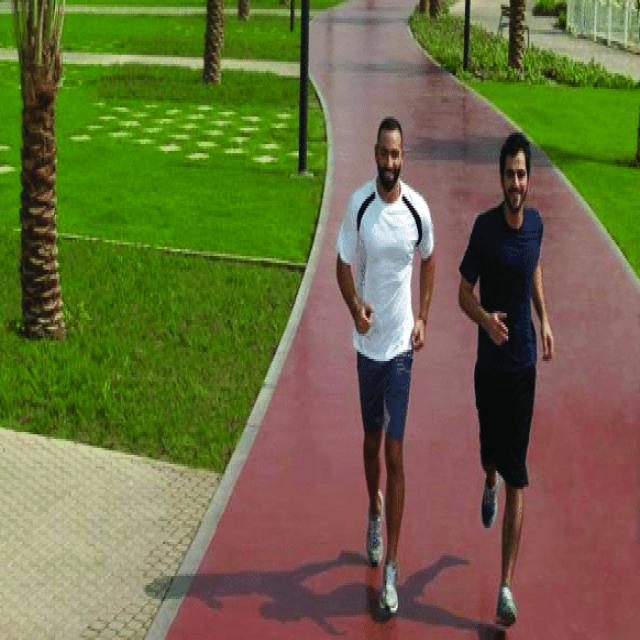Person: (337, 118, 435, 613), (458, 132, 554, 627)
